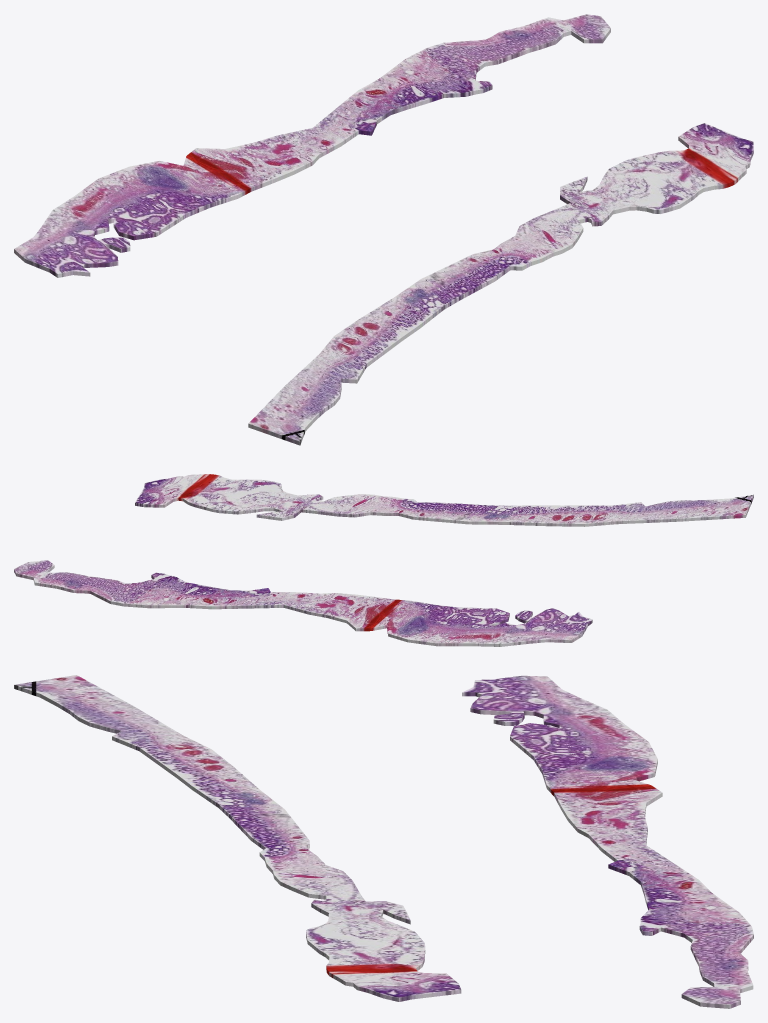
3 renders of one model, top to bottom at view 1: azimuth 30°, elevation 25°; view 2: azimuth 150°, elevation 25°; view 3: azimuth 270°, elevation 25°, orthographic. The views are drawn at different scales.
Visible parts, largest first — view 1: 平面; view 2: 平面; view 3: 平面.
Part boxes in pixels (x1,y1,x2,y2): 平面: (14, 14, 753, 445); 平面: (14, 474, 753, 646); 平面: (14, 675, 753, 1008).
Bounding box in the file's own units: 25.23 × 0.14 × 23.91.
1 material, 1 textured.
